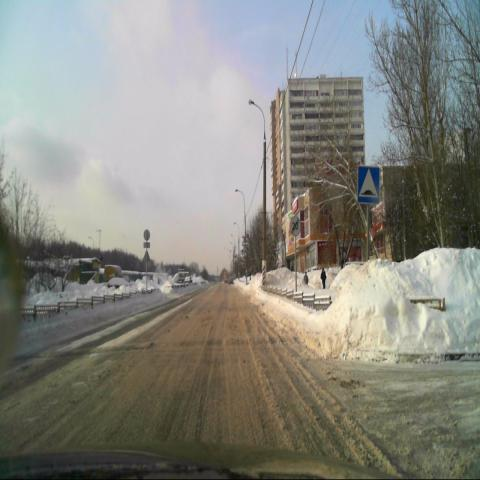3_25: (290, 216, 300, 236)
